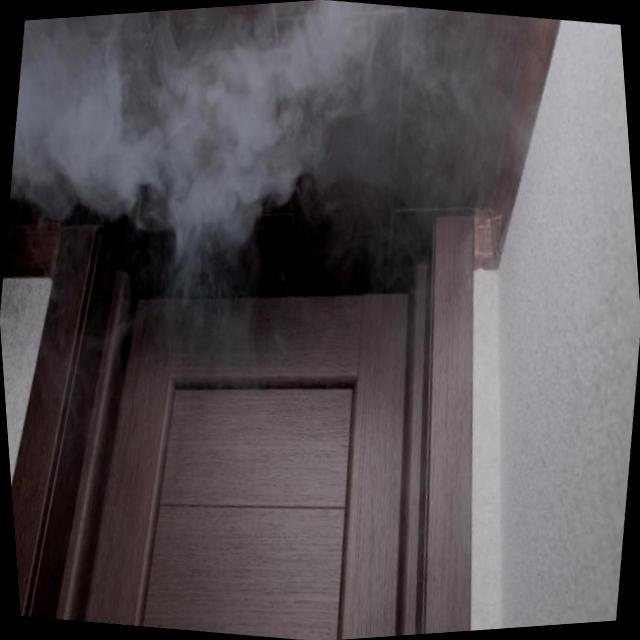smoke: (0, 0, 322, 283)
